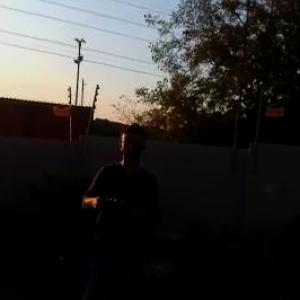follow: (71, 117, 166, 299)
